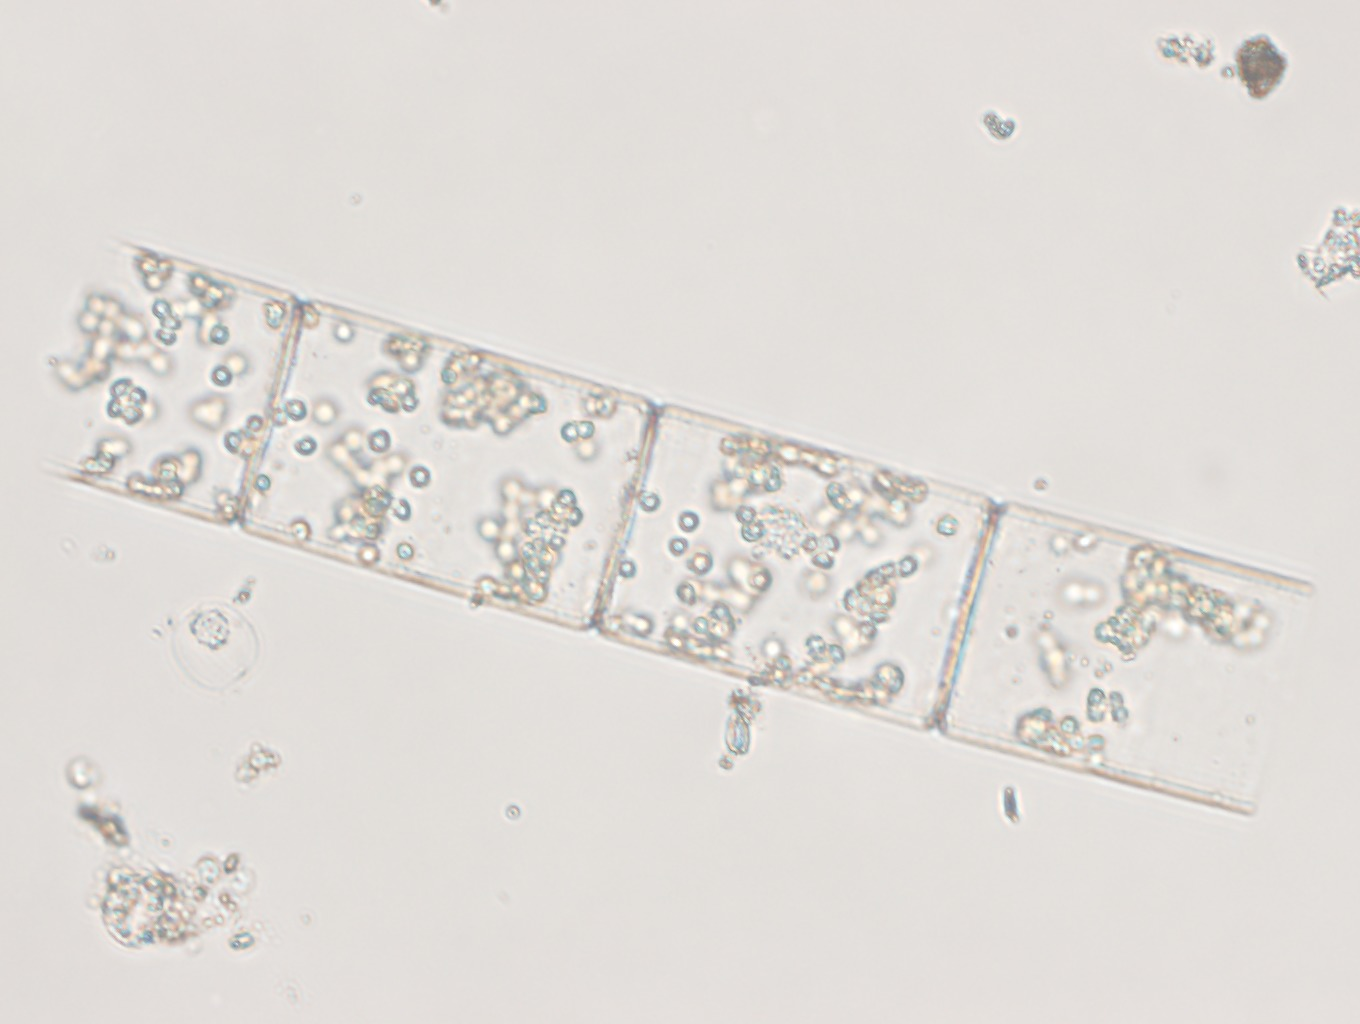guinardia flaccida: (52, 222, 1316, 825)
